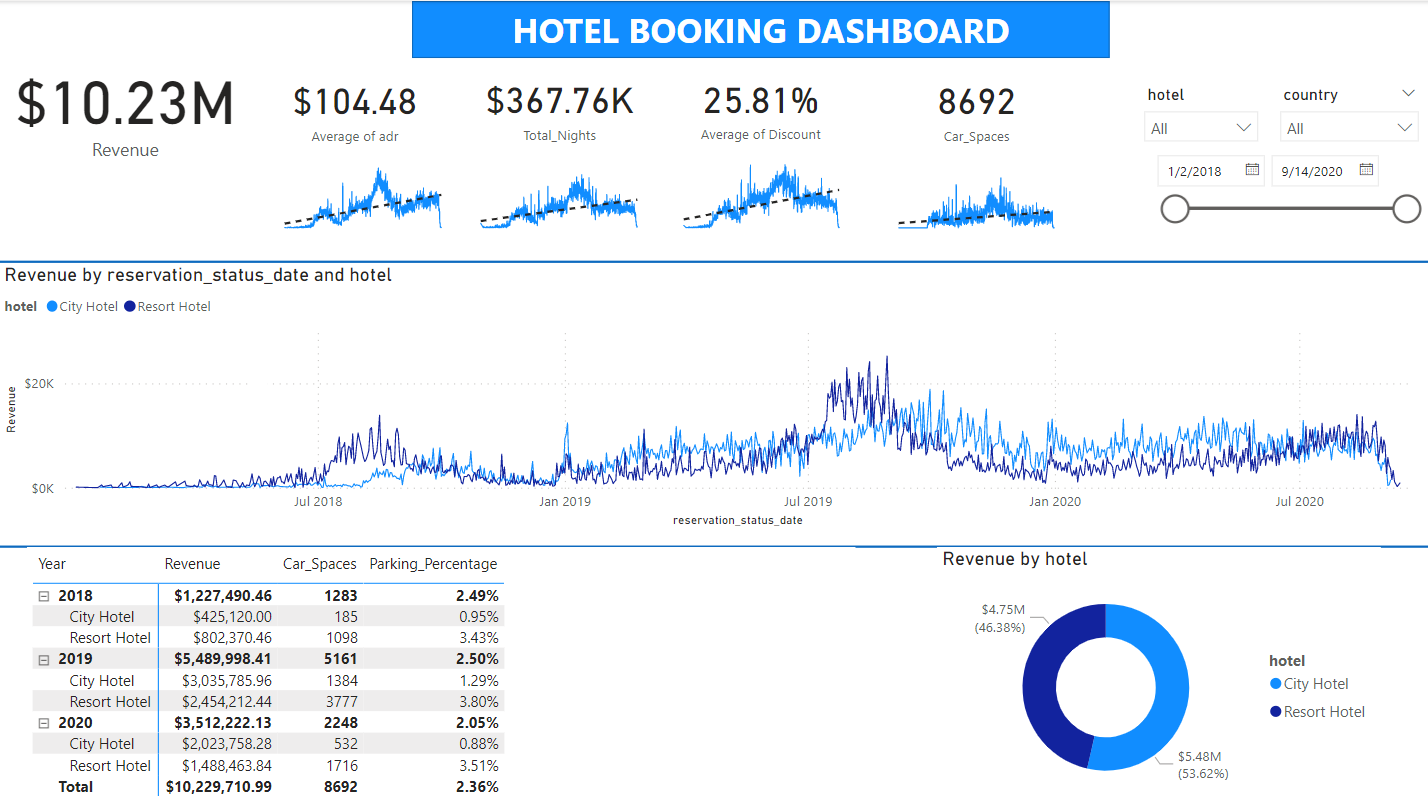

This screenshot's page, from the dashboard's own definition file:
{"tool":"powerbi","page":{"name":"Page 1","canvas":[1280,720],"ordinal":0},"visuals":[{"type":"shape","box":[0,218.6,1280,29.7],"z":0},{"type":"shape","box":[0,473.6,1280,27.8],"z":1000},{"type":"card","fields":{"Values":["Sum(Query1.Revenue)"]},"box":[0,18.2,226.3,153.4],"z":2000},{"type":"card","fields":{"Values":["Avg(Query1.adr)"]},"box":[226.3,50.8,184.1,88.2],"z":3000},{"type":"card","fields":{"Values":["Query1.Total_Nights"]},"box":[410.4,41.2,182.2,106.4],"z":4000},{"type":"card","fields":{"Values":["Avg(Query1.Discount)"]},"box":[585.8,47.9,190.8,91.1],"z":5000},{"type":"lineChart","fields":{"Y":["Sum(Query1.Revenue)"],"Category":["Query1.reservation_status_date"],"Series":["Query1.hotel"]},"box":[0,233.9,1280,239.7],"z":6000},{"type":"slicer","fields":{"Values":["Query1.country"]},"box":[1135.9,70.7,144,68.9],"z":7000},{"type":"slicer","fields":{"Values":["Query1.hotel"]},"box":[1014.3,70.7,121.6,68.9],"z":8000},{"type":"lineChart","fields":{"Y":["Sum(Query1.adr)"],"Category":["Query1.reservation_status_date"]},"box":[240.7,127.5,169.7,80.5],"z":9000},{"type":"lineChart","fields":{"Y":["Query1.Total_Nights"],"Category":["Query1.reservation_status_date"]},"box":[416.1,127.5,169.7,80.5],"z":10000},{"type":"lineChart","fields":{"Y":["Sum(Query1.Discount)"],"Category":["Query1.reservation_status_date"]},"box":[597.3,127.5,168.7,80.5],"z":11000},{"type":"card","fields":{"Values":["Sum(Query1.required_car_parking_spaces)"]},"box":[783.3,50.8,182.2,88.2],"z":12000},{"type":"lineChart","fields":{"Y":["Sum(Query1.required_car_parking_spaces)"],"Category":["Query1.reservation_status_date"]},"box":[790.1,127.5,168.7,80.5],"z":13000},{"type":"donutChart","fields":{"Category":["Query1.hotel"],"Y":["Sum(Query1.Revenue)"]},"box":[839,488,396.9,232],"z":14000},{"type":"pivotTable","fields":{"Rows":["Query1.reservation_status_date.Variation.Date Hierarchy.Year","Query1.hotel"],"Values":["Sum(Query1.Revenue)","Sum(Query1.required_car_parking_spaces)","Query1.Parking_Percentage"]},"box":[24.9,488,741.2,232],"z":15000},{"type":"slicer","fields":{"Values":["Query1.reservation_status_date"]},"box":[1023.2,127.9,256.7,76.9],"z":16000},{"type":"textbox","box":[226.3,324.7,14.3,75.1],"z":17000},{"type":"shape","box":[369.4,0,624.3,51],"z":18000}]}

Visuals, with their boxes in screenshot pixels (x1, y1, x2, y2), scaled from the page's 1280x720 canvas onto the 1428x805 screenshot:
shape: 0:244:1427:278
shape: 0:530:1427:561
card - Sum(Query1.Revenue): 0:20:252:192
card - Avg(Query1.adr): 252:57:458:155
card - Query1.Total_Nights: 458:46:661:165
card - Avg(Query1.Discount): 654:54:866:155
lineChart - Sum(Query1.Revenue) x Query1.reservation_status_date: 0:262:1427:530
slicer - Query1.country: 1267:79:1427:156
slicer - Query1.hotel: 1132:79:1267:156
lineChart - Sum(Query1.adr) x Query1.reservation_status_date: 269:143:458:233
lineChart - Query1.Total_Nights x Query1.reservation_status_date: 464:143:654:233
lineChart - Sum(Query1.Discount) x Query1.reservation_status_date: 666:143:855:233
card - Sum(Query1.required_car_parking_spaces): 874:57:1077:155
lineChart - Sum(Query1.required_car_parking_spaces) x Query1.reservation_status_date: 881:143:1070:233
donutChart - Query1.hotel x Sum(Query1.Revenue): 936:546:1379:804
pivotTable - Query1.reservation_status_date.Variation.Date Hierarchy.Year x Query1.hotel: 28:546:855:804
slicer - Query1.reservation_status_date: 1142:143:1427:229
textbox: 252:363:268:447
shape: 412:0:1109:57
